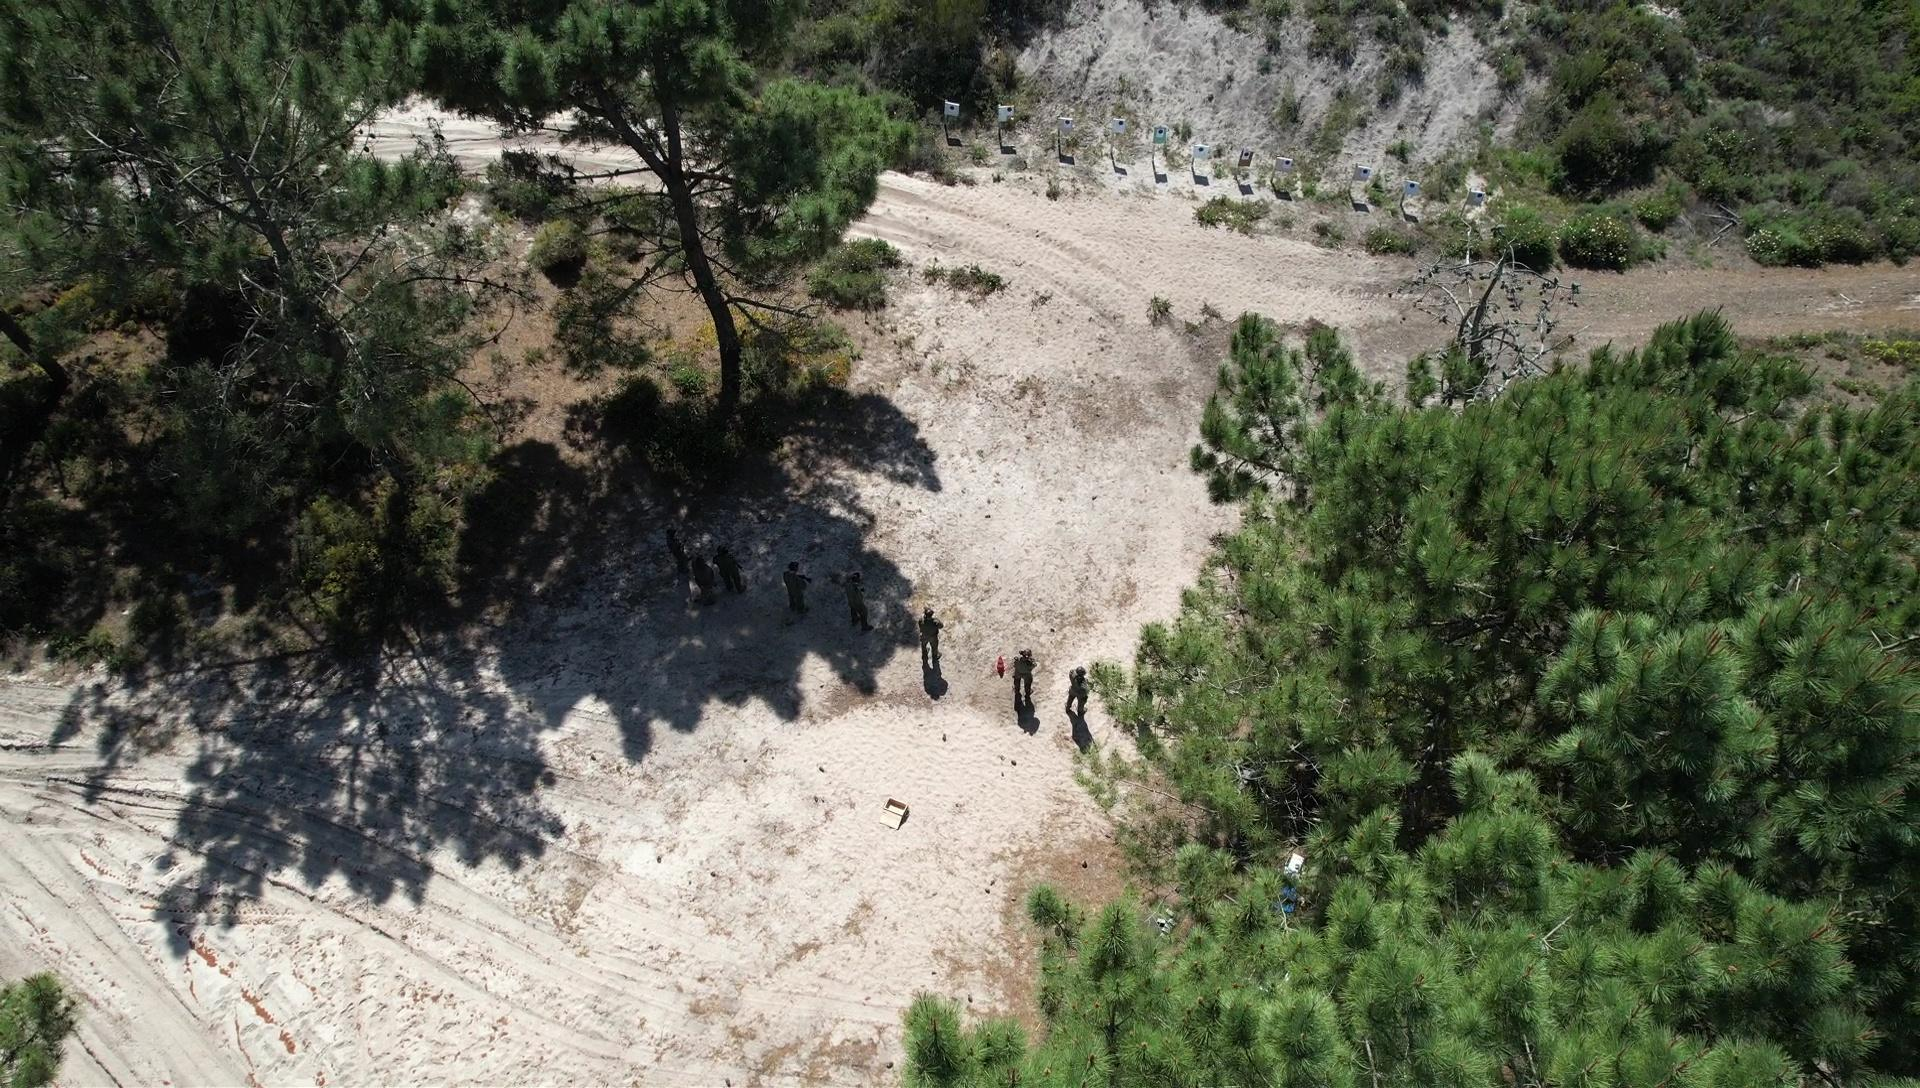Soldier: (905, 586, 951, 679), (835, 566, 880, 651), (1004, 645, 1043, 720), (778, 554, 816, 629), (1060, 659, 1096, 729), (687, 553, 719, 612), (711, 542, 744, 599), (659, 524, 688, 582)
